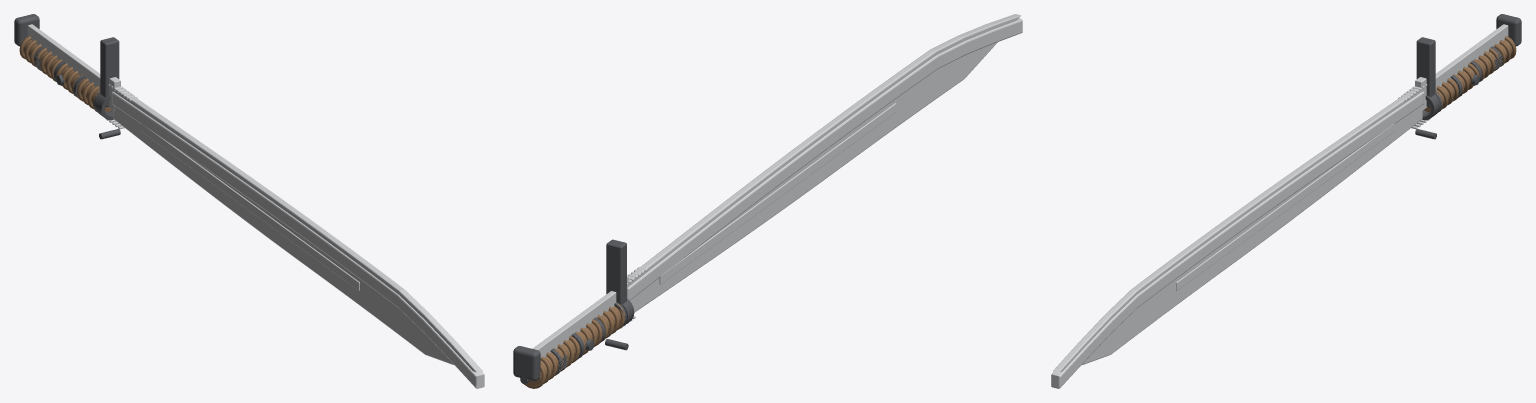
The model's file is mega-weapon-pack-curved-sword-7cfb1c19__33402.glb.
3 views of the same model, side by side, from view 1: azimuth 30°, elevation 25°; view 2: azimuth 150°, elevation 25°; view 3: azimuth 330°, elevation 25° (orthographic). The views are drawn at different scales.
Parts seen in each view (by area): view 1: curved-sword; view 2: curved-sword; view 3: curved-sword.
Boxes of the visible parts, box(x1,y1,x2,y2) form: curved-sword: box(14, 14, 484, 388); curved-sword: box(513, 14, 1022, 388); curved-sword: box(1051, 14, 1521, 388).
Bounding box in the file's own units: 0.0352 × 0.1088 × 0.9307.
